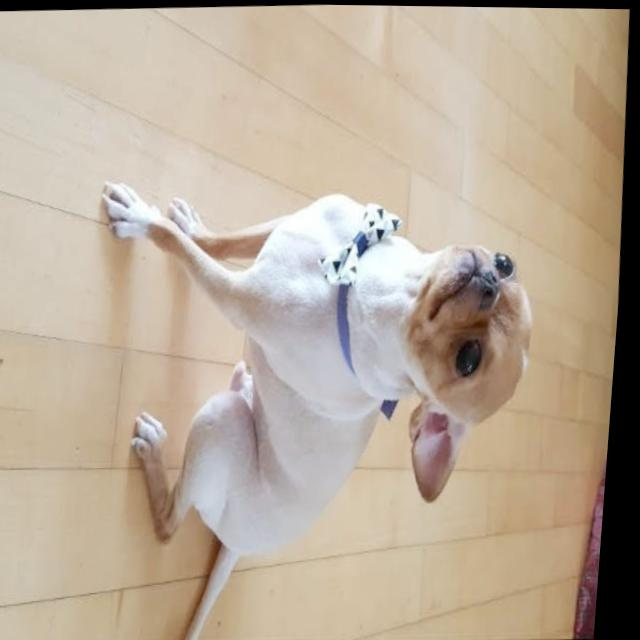dog-chihuahua: (392, 236, 548, 508)
